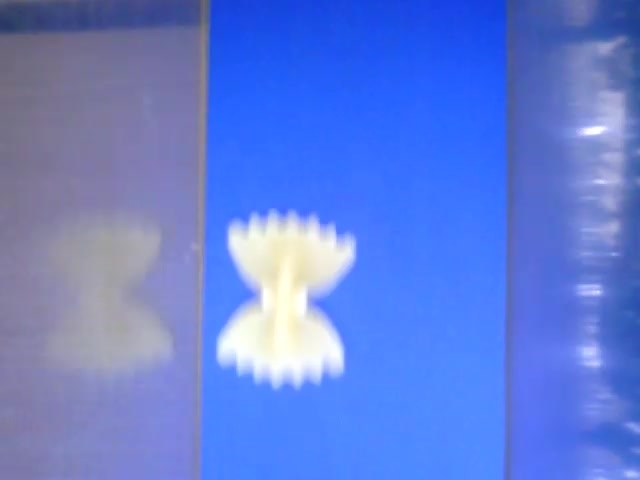farfalle: (217, 212, 357, 386)
